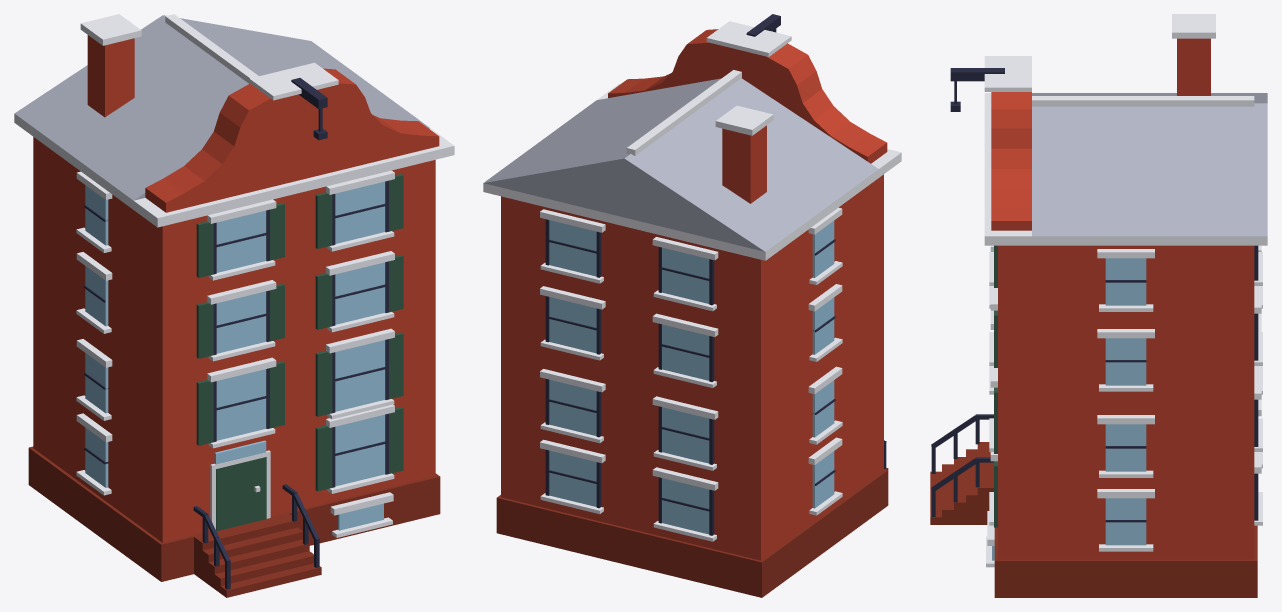
The model's file is house-1x1-4f-dutch-a.glb.
The picture shows the model from 3 angles, left to right: view 1: azimuth 30°, elevation 25°; view 2: azimuth 150°, elevation 25°; view 3: azimuth 270°, elevation 25°; orthographic projection. The views are drawn at different scales.
Visible parts, largest first — view 1: house-1x1-4f-dutch-a; view 2: house-1x1-4f-dutch-a; view 3: house-1x1-4f-dutch-a.
Part boxes in pixels (bbox=[...]): house-1x1-4f-dutch-a: bbox=[14, 14, 454, 597]; house-1x1-4f-dutch-a: bbox=[483, 14, 901, 597]; house-1x1-4f-dutch-a: bbox=[930, 14, 1267, 597].
Size of the model in its own units: 1 by 1.51 by 0.995.
1 material, 1 textured.
